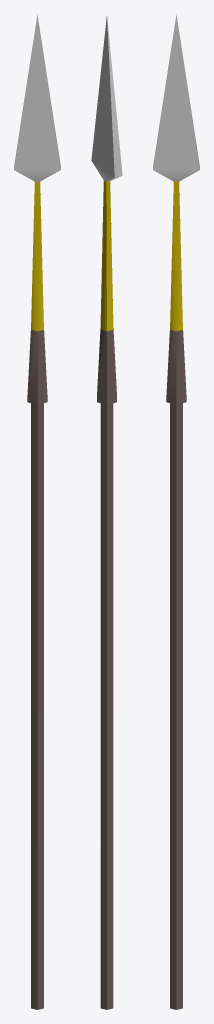
Rendered from thuong.fbx.
3 views of the same model, side by side, from view 1: azimuth 90°, elevation 25°; view 2: azimuth 210°, elevation 25°; view 3: azimuth 270°, elevation 25° (orthographic).
Parts seen in each view (by area): view 1: giao; view 2: giao; view 3: giao.
Part boxes in pixels (x1,y1,x2,y2): giao: (14, 14, 60, 1009); giao: (91, 16, 122, 1009); giao: (153, 14, 199, 1009).
Bounding box in the file's own units: 0.2232 × 10.46 × 0.4464.
